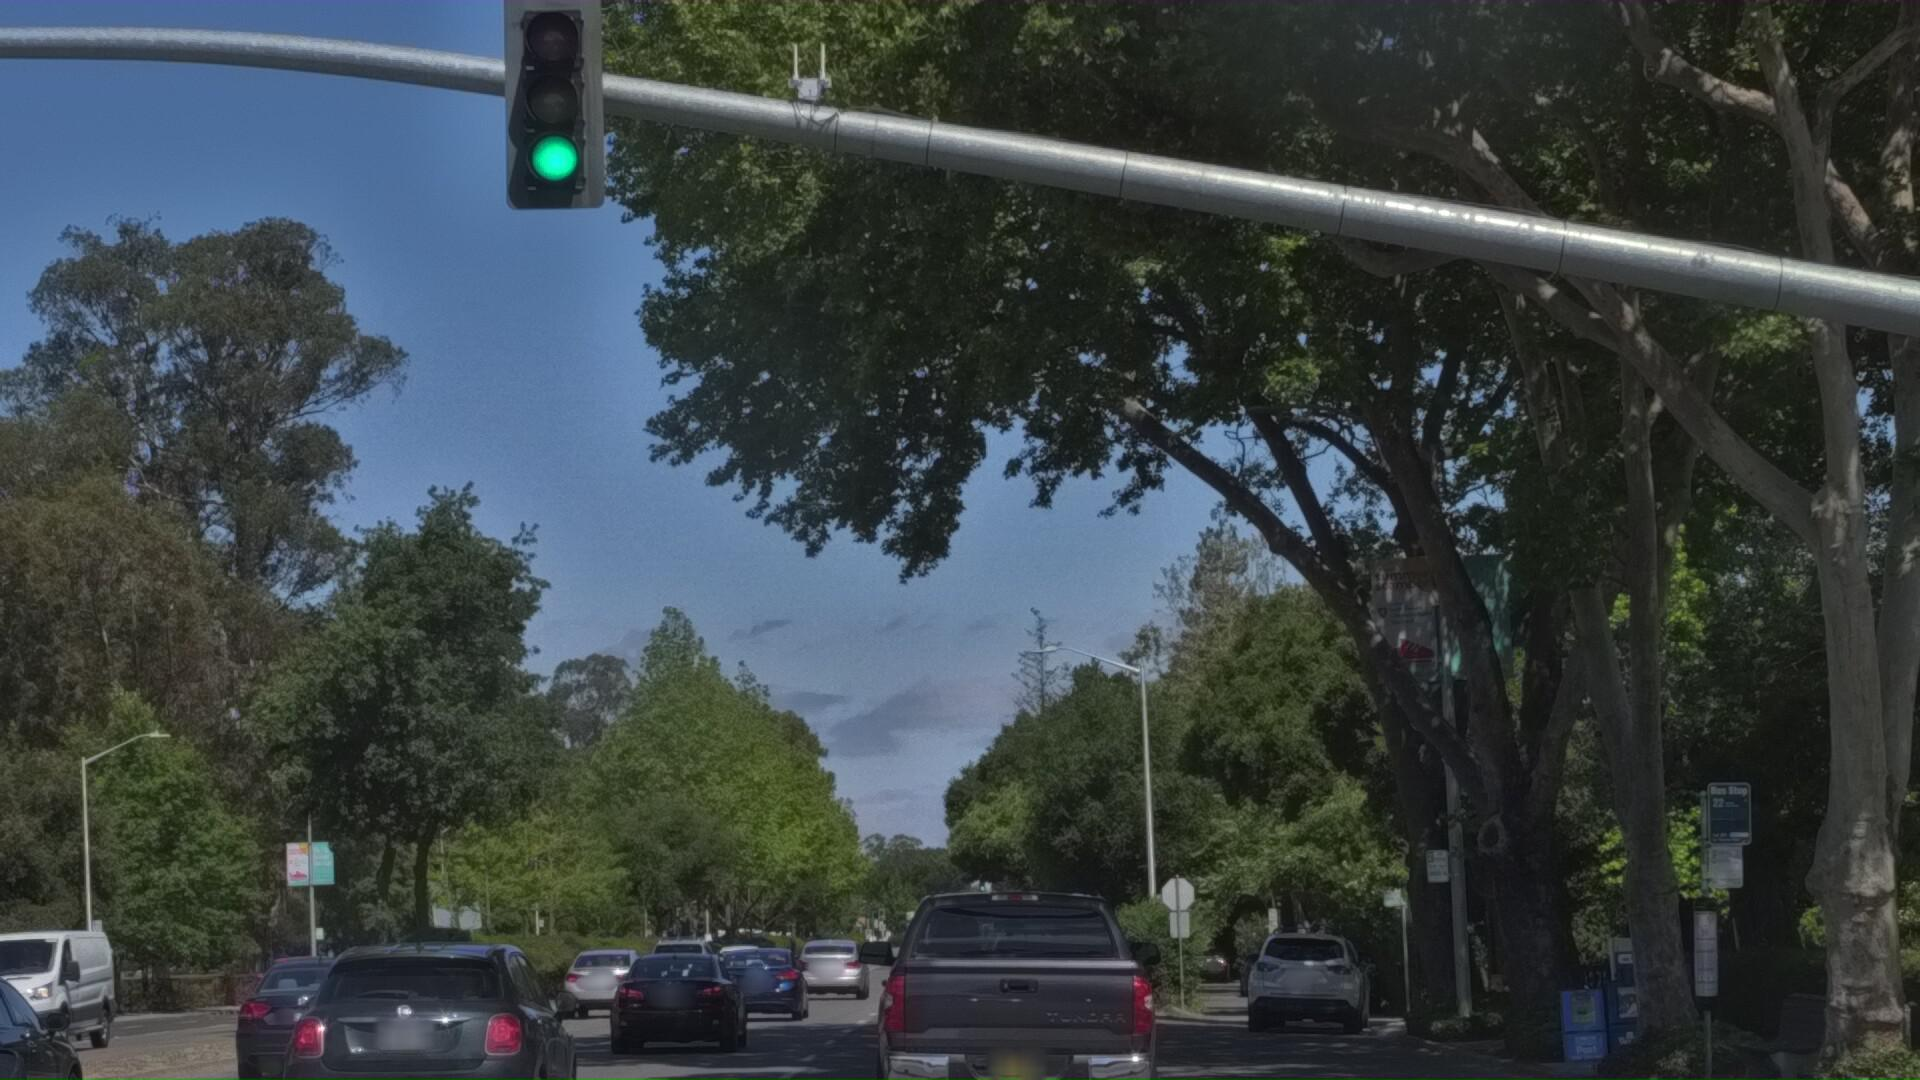car: (852, 891, 1178, 1080), (0, 735, 153, 1080), (276, 959, 608, 1080), (976, 976, 1149, 1080), (218, 1000, 433, 1080), (0, 943, 120, 1080), (1251, 931, 1371, 1048), (597, 990, 750, 1080), (0, 996, 135, 1080), (727, 982, 839, 1076), (558, 977, 655, 1054)
